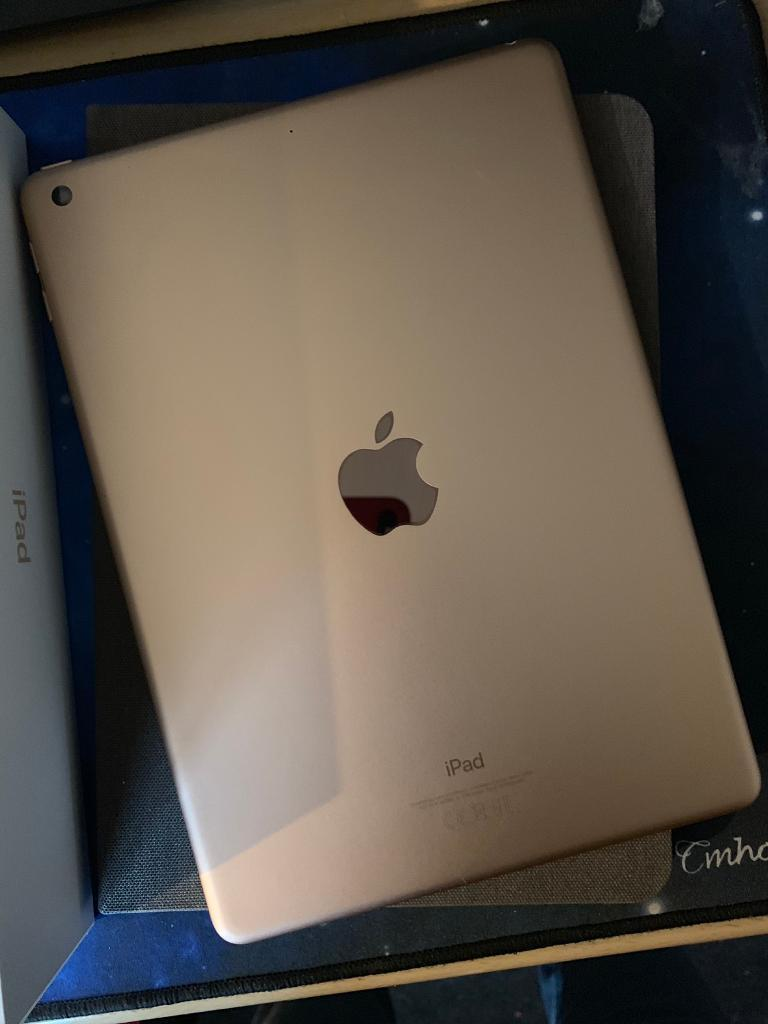apple: (292, 376, 474, 575)
